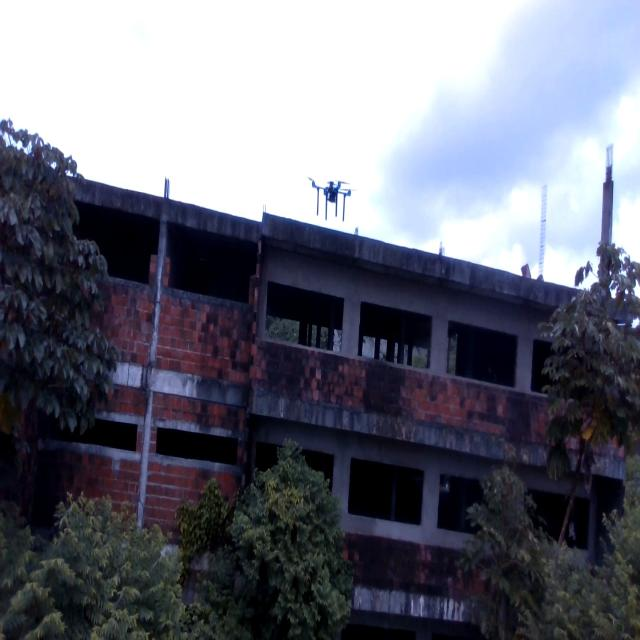-uav-: (292, 157, 376, 237)
